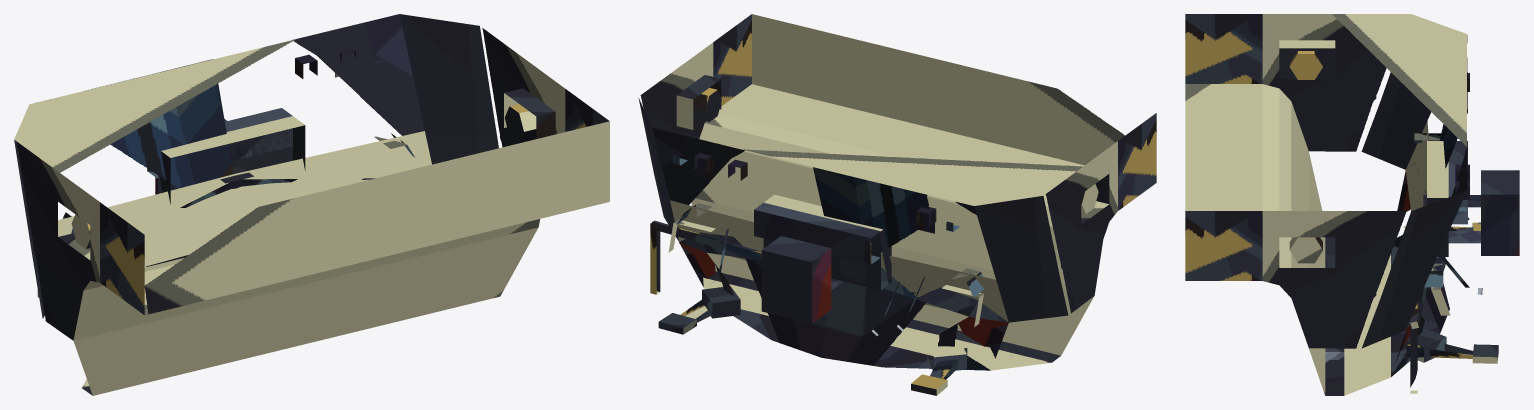
File: hxd3d_cowcatcher.obj
3 renders of one model, left to right at view 1: azimuth 30°, elevation 25°; view 2: azimuth 150°, elevation 25°; view 3: azimuth 270°, elevation 25°, orthographic. The views are drawn at different scales.
Visible parts, largest first — view 1: cube_selection_selection_selection_selection_selection_selection; view 2: cube_selection_selection_selection_selection_selection_selection; view 3: cube_selection_selection_selection_selection_selection_selection.
Part boxes in pixels (x1=…): cube_selection_selection_selection_selection_selection_selection: x1=14, y1=14, x2=609, y2=395; cube_selection_selection_selection_selection_selection_selection: x1=638, y1=14, x2=1156, y2=395; cube_selection_selection_selection_selection_selection_selection: x1=1185, y1=14, x2=1519, y2=395.
Bounding box in the file's own units: 3.02 × 1.41 × 2.17.
